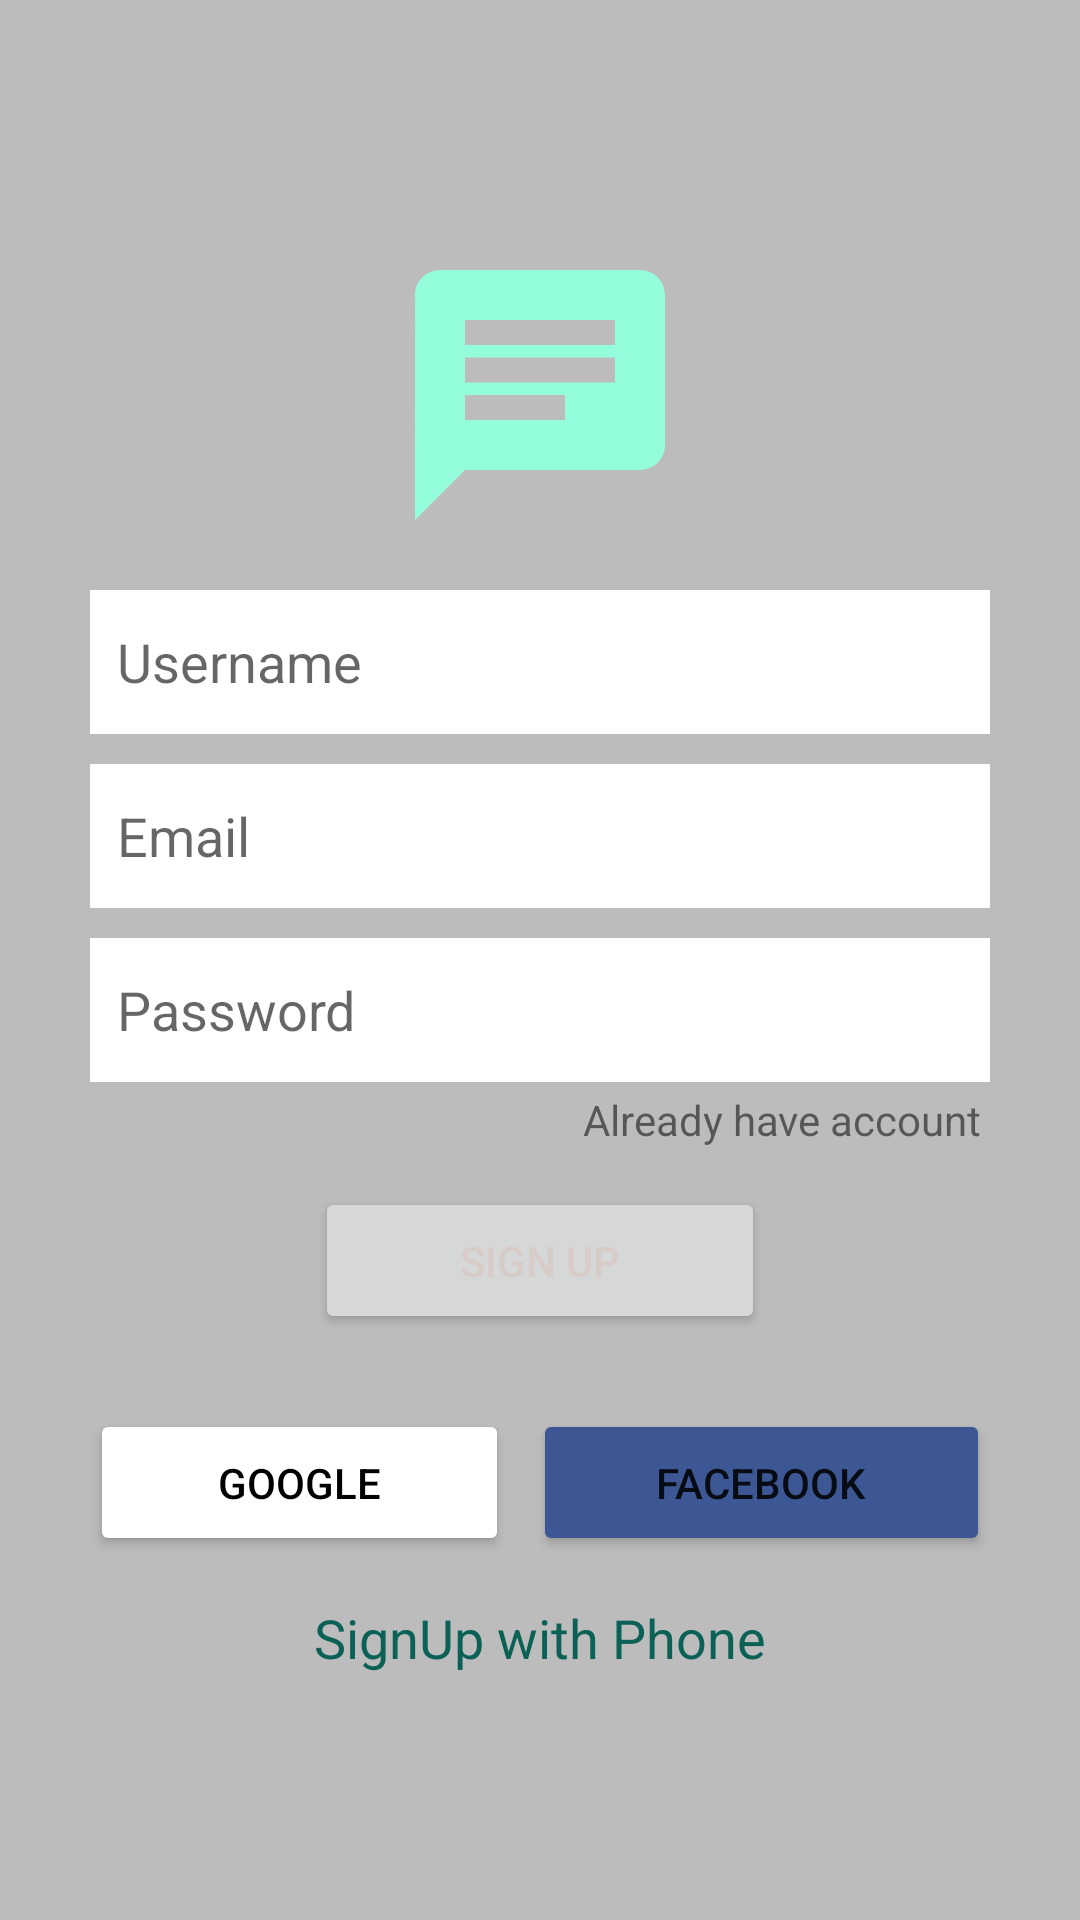

Locate icon controls on the screen. Image size 1080 × 1920, boxes as bbox=(x1, y1, x2, y2).
chat: bbox=(415, 270, 665, 520)
